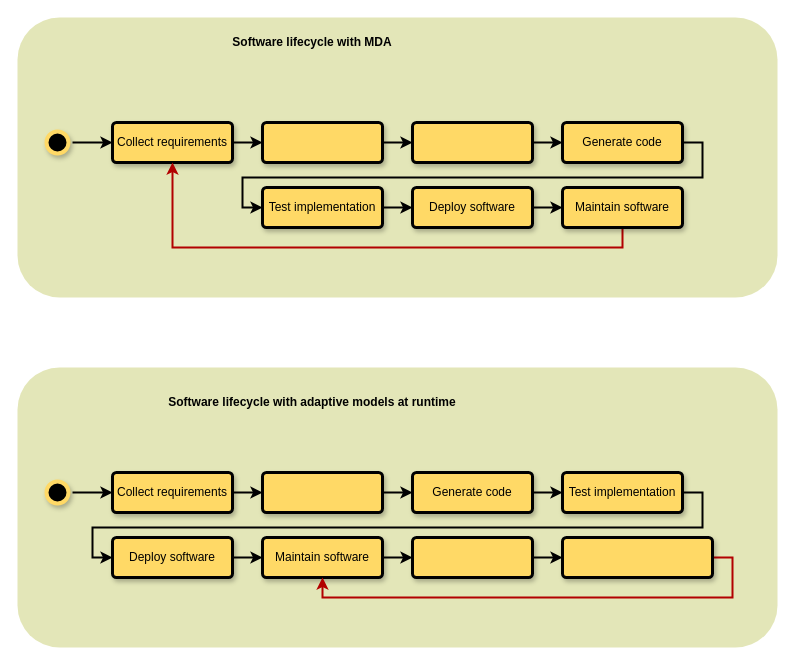
This 794x664 diagram has some shape labels left out. The centre of each missing label's shape, as x and y in pixels:
"Adjust model" belongs at point (473, 559).
"Deploy new configuration dynamically" belongs at point (638, 559).
"Generate dynamic model" belongs at point (323, 493).
"Generate platform-independent model" belongs at point (323, 143).
"Generate platform-specific model" belongs at point (473, 143).
